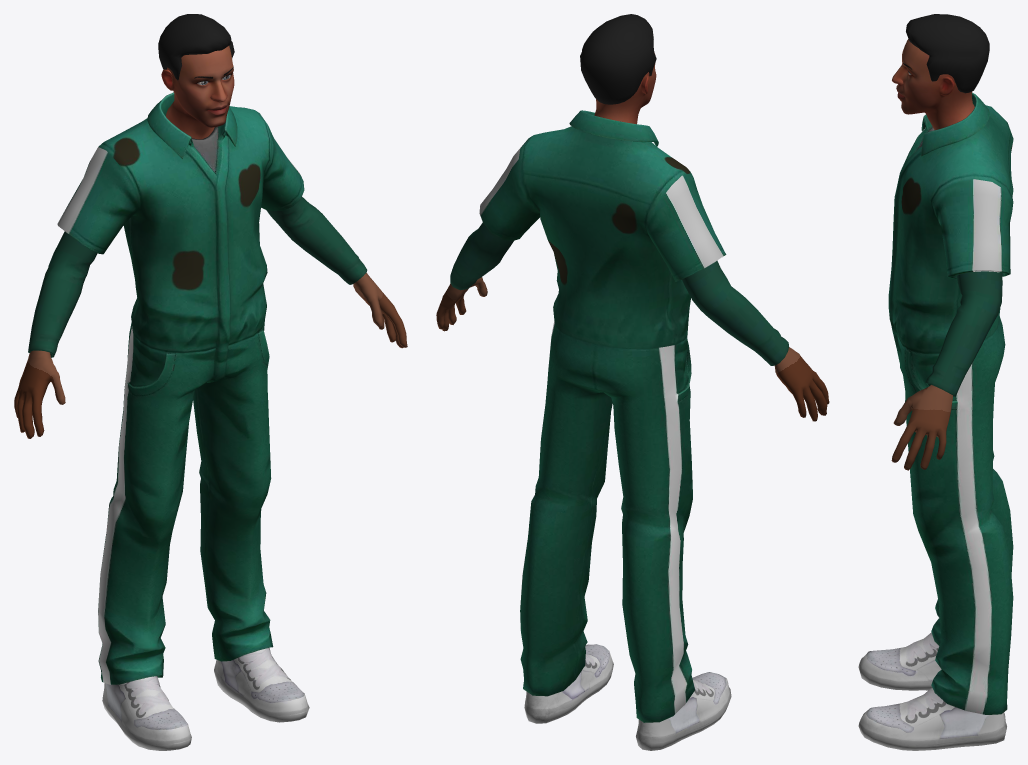
Rendered from mechanic.fbx.
3 views of the same model, side by side, from view 1: azimuth 30°, elevation 25°; view 2: azimuth 150°, elevation 25°; view 3: azimuth 270°, elevation 25° (orthographic).
Visible parts, largest first — view 1: Wolf3D_Outfit_Top, Wolf3D_Outfit_Bottom, Wolf3D_Outfit_Footwear, Wolf3D_Head, Wolf3D_Body, Wolf3D_Hair; view 2: Wolf3D_Outfit_Bottom, Wolf3D_Outfit_Top, Wolf3D_Outfit_Footwear, Wolf3D_Hair, Wolf3D_Body, Wolf3D_Head; view 3: Wolf3D_Outfit_Top, Wolf3D_Outfit_Bottom, Wolf3D_Outfit_Footwear, Wolf3D_Hair, Wolf3D_Head, Wolf3D_Body.
Part boxes in pixels (x1,y1,x2,y2): Wolf3D_Outfit_Top: [28, 92, 367, 357]; Wolf3D_Outfit_Bottom: [98, 320, 273, 684]; Wolf3D_Outfit_Footwear: [102, 647, 309, 750]; Wolf3D_Head: [161, 46, 234, 139]; Wolf3D_Body: [14, 272, 407, 438]; Wolf3D_Hair: [158, 14, 234, 80]; Wolf3D_Outfit_Bottom: [520, 321, 694, 722]; Wolf3D_Outfit_Top: [450, 110, 788, 365]; Wolf3D_Outfit_Footwear: [524, 644, 731, 750]; Wolf3D_Hair: [580, 14, 656, 104]; Wolf3D_Body: [436, 277, 829, 421]; Wolf3D_Head: [594, 52, 656, 124]; Wolf3D_Outfit_Top: [888, 92, 1013, 396]; Wolf3D_Outfit_Bottom: [892, 316, 1013, 714]; Wolf3D_Outfit_Footwear: [858, 632, 1006, 750]; Wolf3D_Hair: [906, 14, 989, 93]; Wolf3D_Head: [892, 39, 974, 129]; Wolf3D_Body: [891, 385, 952, 470].
Size of the model in its own units: 106 by 186 by 37.48.
8 materials, 8 textured.
